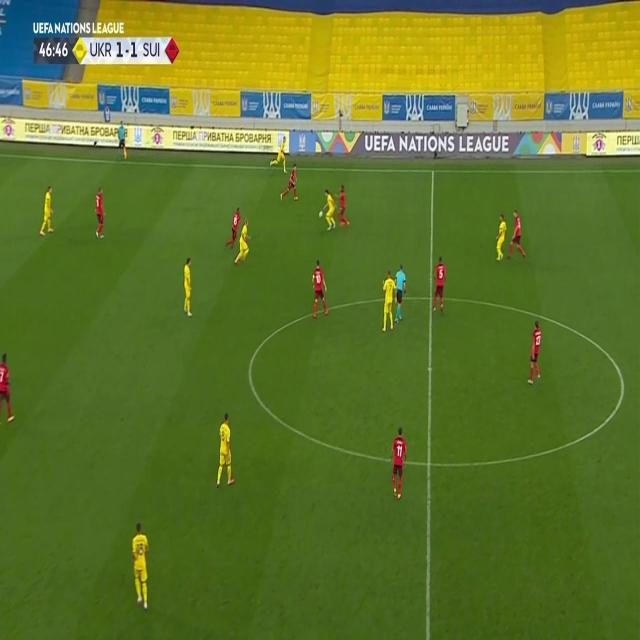ball: (318, 209, 323, 219)
player: (129, 519, 151, 611), (215, 412, 235, 488), (390, 425, 408, 499), (310, 258, 329, 320), (0, 352, 16, 424), (527, 319, 544, 384), (430, 253, 448, 314), (380, 268, 396, 332), (508, 209, 527, 261), (234, 217, 252, 266), (38, 186, 56, 234), (224, 206, 242, 252), (394, 263, 408, 322), (318, 188, 337, 230), (181, 257, 194, 318), (92, 186, 106, 240), (270, 132, 288, 172), (280, 162, 298, 202), (494, 214, 508, 262), (336, 184, 350, 228), (116, 120, 128, 161)
